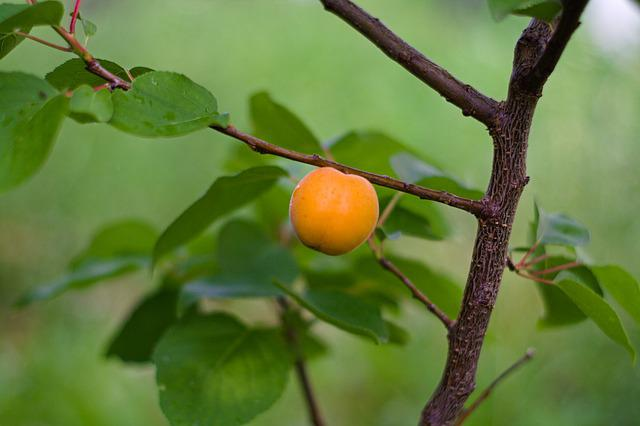peach: (288, 162, 383, 258)
